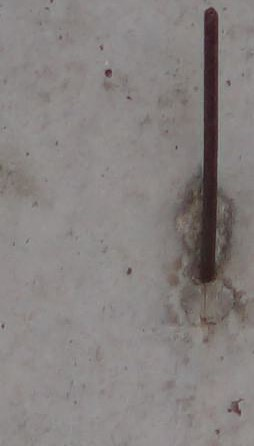Exposed reinforcement: (199, 6, 219, 283)
Spalling: (172, 173, 237, 328)
